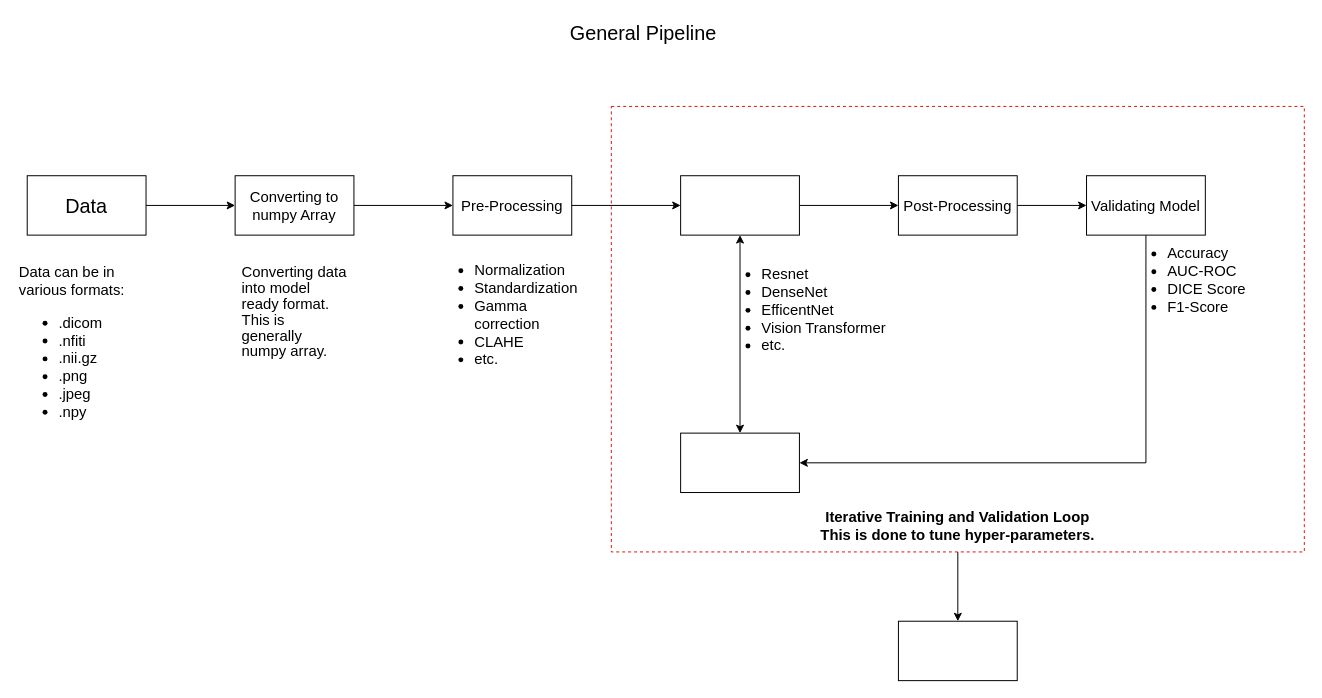
This 1322x698 diagram has some shape labels left out. The box of each missing label's shape, as (x1, y1, x2, y2) in pixels:
Deployment: (897, 620, 1017, 681)
Hyper-parameter Tuning: (680, 432, 799, 493)
Model Training: (680, 175, 799, 235)
